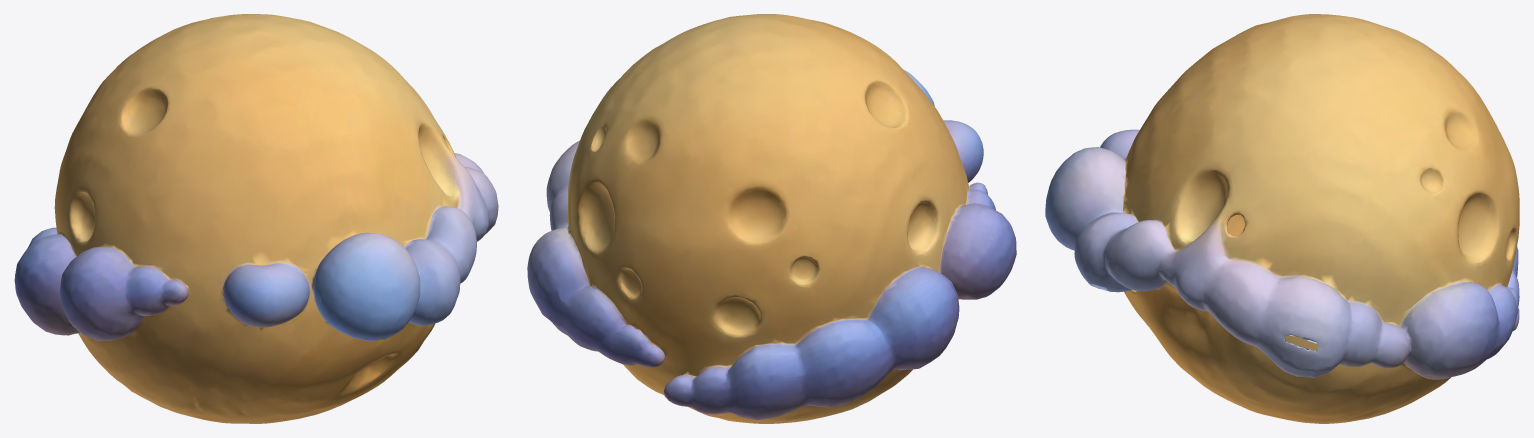
Rendered from planet_moon.glb.
3 renders of one model, left to right at view 1: azimuth 30°, elevation 25°; view 2: azimuth 150°, elevation 25°; view 3: azimuth 270°, elevation 25°, orthographic.
Visible parts, largest first — view 1: geometry_0; view 2: geometry_0; view 3: geometry_0.
Boxes of the visible parts, <box> form: geometry_0: <box>14,14,498,423</box>; geometry_0: <box>527,14,1016,423</box>; geometry_0: <box>1045,14,1519,423</box>.
Bounding box in the file's own units: 0.8849 × 0.7213 × 0.8449.
1 material, 1 textured.
